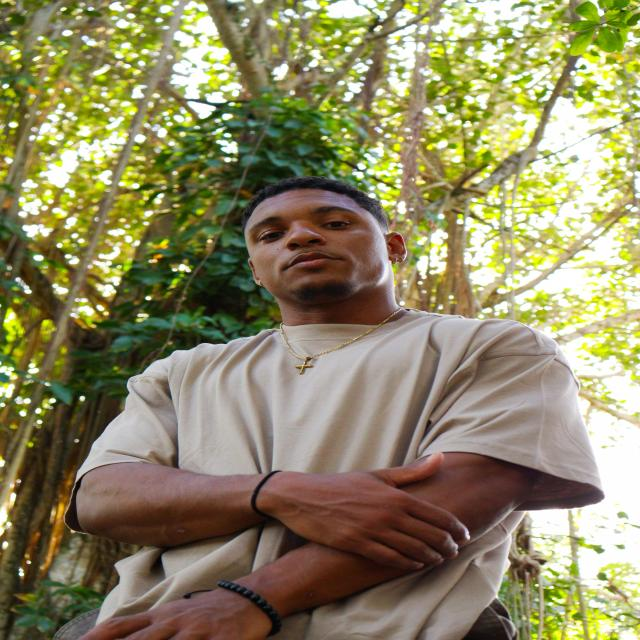human: (58, 174, 612, 640)
